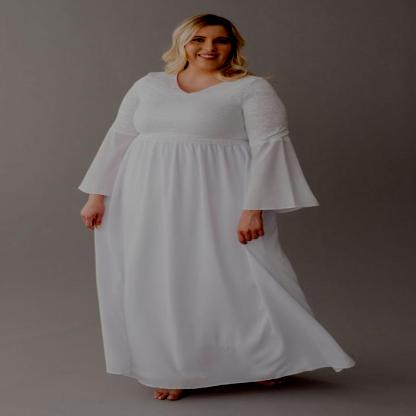dress: (66, 62, 364, 386)
jean: (75, 10, 360, 402)
